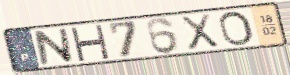6: (145, 16, 181, 56)
7: (108, 20, 141, 60)
H: (68, 24, 112, 62)
N: (32, 27, 76, 67)
O: (217, 10, 256, 48)
X: (178, 12, 222, 52)
